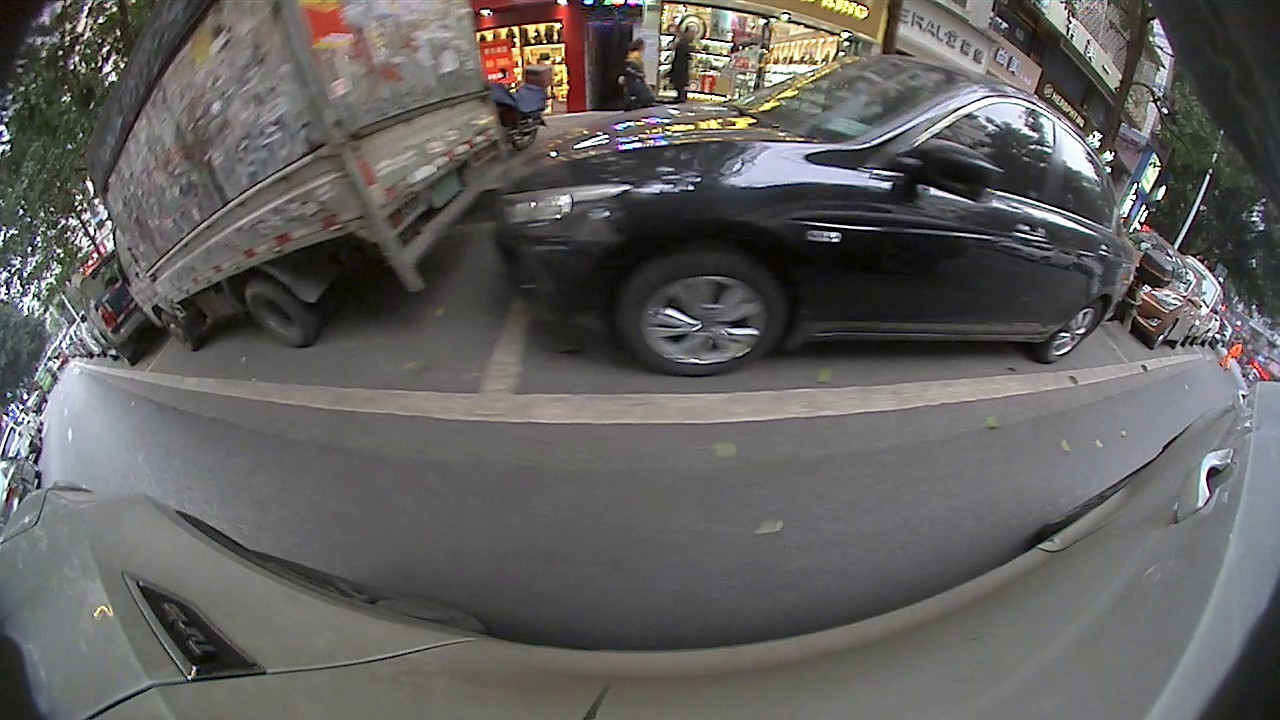car: (487, 50, 1139, 381), (1116, 226, 1205, 353)
front: (627, 257, 784, 378), (154, 310, 201, 349)
rear: (241, 283, 320, 345), (1039, 298, 1104, 363)
rider: (482, 61, 557, 149)
truck: (82, 1, 505, 353)
